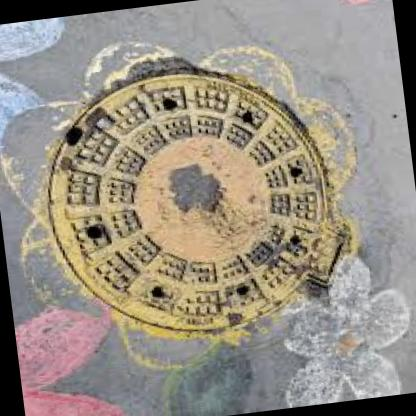manholes: (9, 30, 382, 375)
